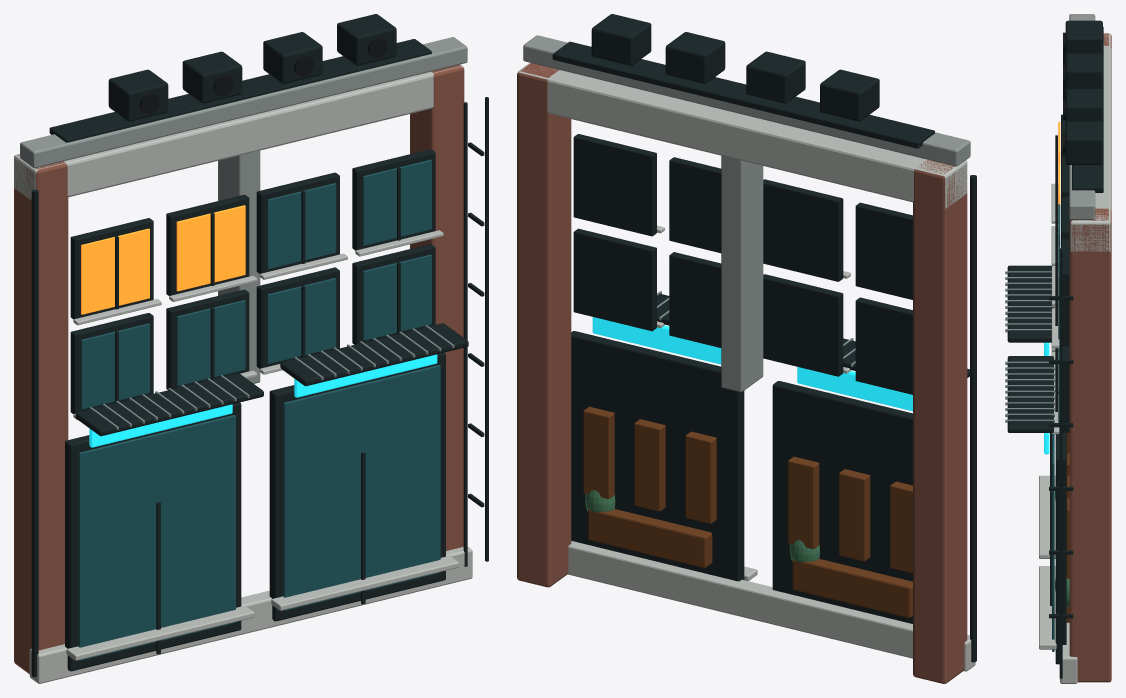
File: facadeC.glb
3 views of the same model, side by side, from view 1: azimuth 30°, elevation 25°; view 2: azimuth 150°, elevation 25°; view 3: azimuth 270°, elevation 25° (orthographic). The views are drawn at different scales.
Parts seen in each view (by area): view 1: StoreC_DeepGlass, StoreC_Awning, StoreC_LeftPier, StoreC_GroundPlinth, StoreC_CenterPier, StoreC_ProductGlow, StoreC_Lightbox, StoreC_AwningRib, StoreC_ACFan; view 2: StoreC_Awning, StoreC_LeftPier, StoreC_GroundPlinth, StoreC_Counter, StoreC_CenterPier, StoreC_Lightbox, StoreC_Plant; view 3: StoreC_Awning, StoreC_LeftPier, StoreC_GroundPlinth, StoreC_AwningRib, StoreC_CenterPier, StoreC_DeepGlass, StoreC_Counter, StoreC_ProductGlow, StoreC_ACFan, StoreC_Lightbox.
Boxes of the visible parts, box(x1,y1,x2,y2) form: StoreC_DeepGlass: box(78, 159, 440, 660); StoreC_Awning: box(31, 14, 488, 677); StoreC_LeftPier: box(14, 64, 464, 673); StoreC_GroundPlinth: box(14, 64, 472, 683); StoreC_CenterPier: box(20, 37, 467, 383); StoreC_ProductGlow: box(81, 205, 245, 314); StoreC_Lightbox: box(89, 354, 437, 447); StoreC_AwningRib: box(90, 325, 454, 429); StoreC_ACFan: box(139, 37, 387, 113); StoreC_Awning: box(552, 14, 976, 662); StoreC_LeftPier: box(517, 63, 967, 683); StoreC_GroundPlinth: box(517, 62, 975, 671); StoreC_Counter: box(583, 406, 912, 617); StoreC_CenterPier: box(523, 35, 970, 392); StoreC_Lightbox: box(592, 317, 912, 411); StoreC_Plant: box(585, 490, 819, 562); StoreC_Awning: box(1007, 20, 1103, 678); StoreC_LeftPier: box(1069, 33, 1111, 682); StoreC_GroundPlinth: box(1039, 33, 1111, 683); StoreC_AwningRib: box(1005, 271, 1054, 422); StoreC_CenterPier: box(1069, 14, 1095, 219); StoreC_DeepGlass: box(1052, 204, 1060, 651); StoreC_Counter: box(1066, 432, 1069, 622); StoreC_ProductGlow: box(1058, 122, 1060, 204); StoreC_ACFan: box(1063, 32, 1065, 152); StoreC_Lightbox: box(1044, 342, 1049, 454).
Size of the model in its own units: 13.51 by 16.14 by 3.03.
